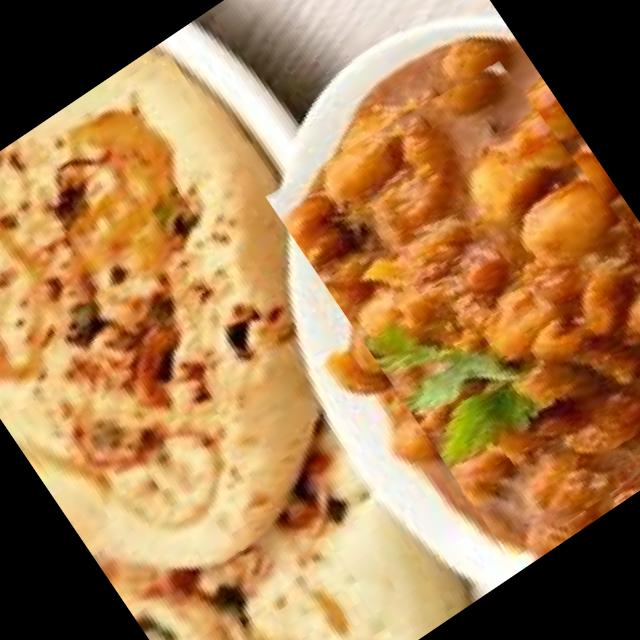Organic: (0, 41, 518, 640), (232, 27, 640, 580)
